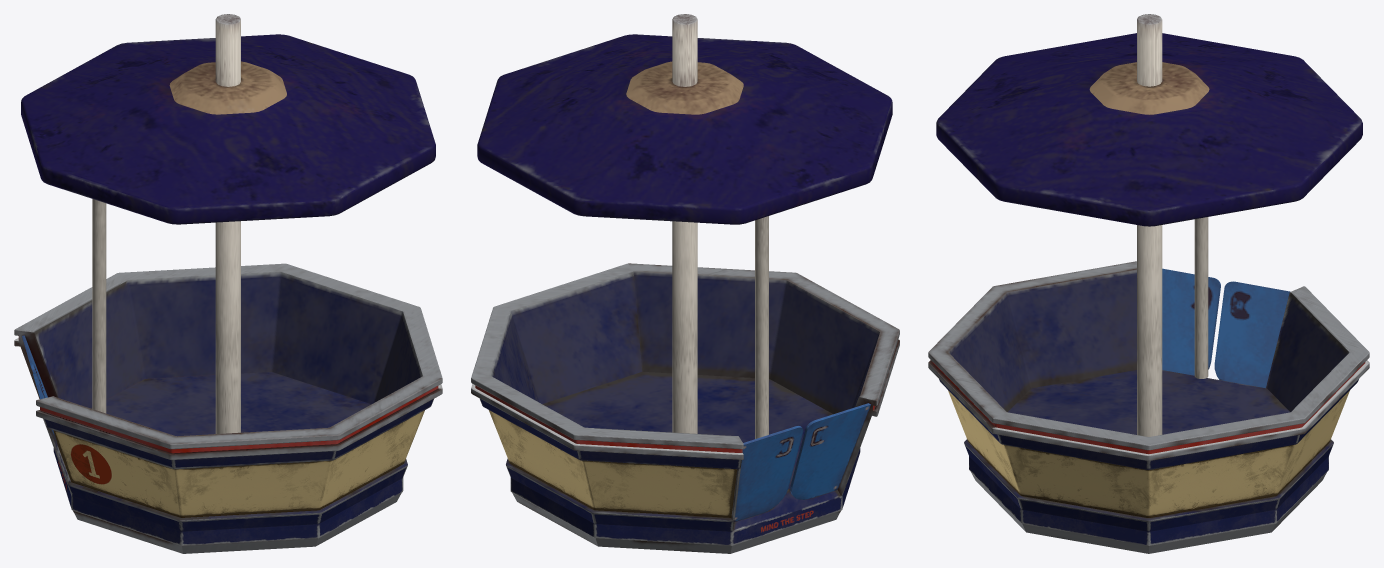
The picture shows the model from 3 angles, left to right: view 1: azimuth 30°, elevation 25°; view 2: azimuth 150°, elevation 25°; view 3: azimuth 270°, elevation 25°; orthographic projection.
Parts seen in each view (by area): view 1: Car_Main.009_T_Car_01_0; view 2: Car_Main.009_T_Car_01_0; view 3: Car_Main.009_T_Car_01_0.
Boxes of the visible parts, box(x1,y1,x2,y2) form: Car_Main.009_T_Car_01_0: box(14, 14, 442, 553); Car_Main.009_T_Car_01_0: box(471, 14, 899, 553); Car_Main.009_T_Car_01_0: box(928, 14, 1369, 553).
Size of the model in its own units: 2.35 by 2.88 by 2.35.
